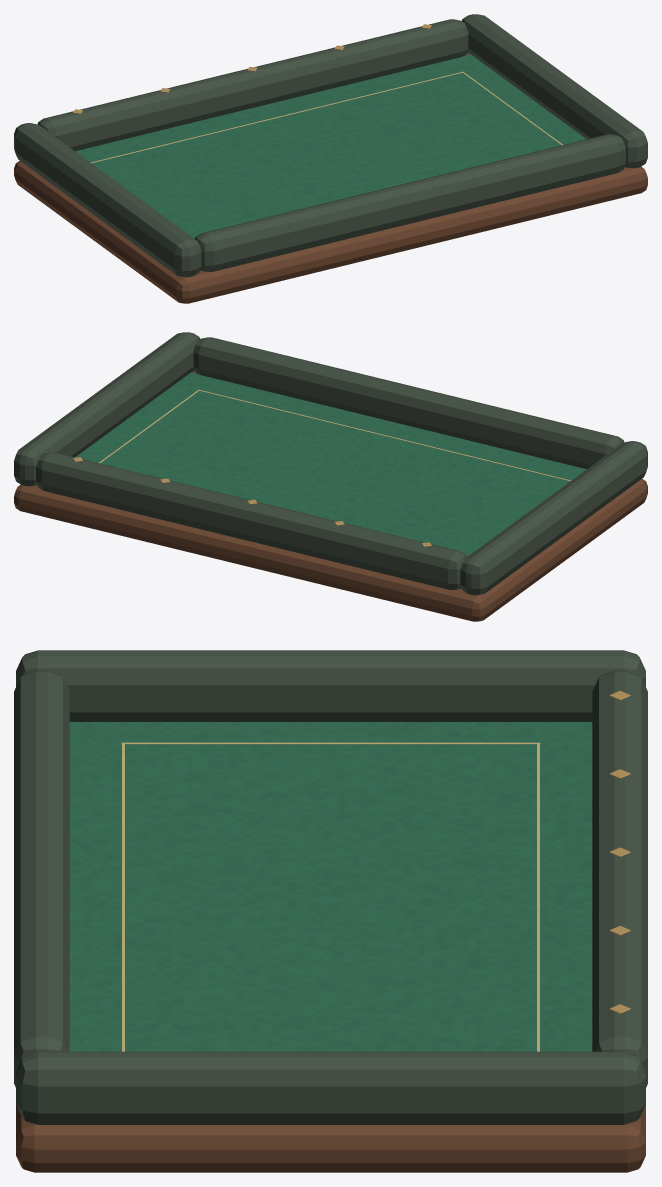
File: dice-tray.glb
The picture shows the model from 3 angles, top to bottom: view 1: azimuth 30°, elevation 25°; view 2: azimuth 150°, elevation 25°; view 3: azimuth 270°, elevation 25°; orthographic projection. The views are drawn at different scales.
Visible parts, largest first — view 1: side padded bolster, baize bed, tray foundation, baize side rule; view 2: side padded bolster, baize bed, tray foundation, baize side rule; view 3: baize bed, side padded bolster, tray foundation, baize side rule.
Boxes of the visible parts, box(x1,y1,x2,y2) form: side padded bolster: box(14, 14, 647, 277); baize bed: box(75, 54, 586, 238); tray foundation: box(14, 53, 647, 303); baize side rule: box(91, 71, 562, 163); side padded bolster: box(14, 332, 647, 595); baize bed: box(75, 372, 586, 556); tray foundation: box(14, 371, 647, 621); baize side rule: box(99, 389, 570, 481); baize bed: box(69, 722, 592, 1051); side padded bolster: box(14, 650, 647, 1124); tray foundation: box(16, 1105, 645, 1172); baize side rule: box(121, 742, 540, 1051).
Bounding box in the file's own units: 2.71 × 0.347 × 1.71.
5 materials, 1 textured.
